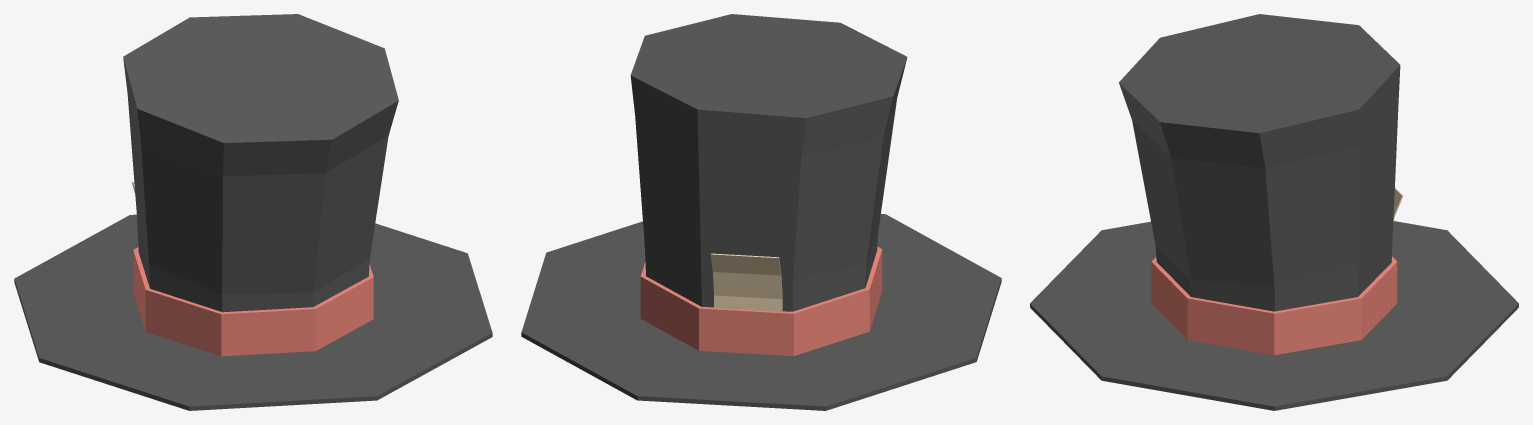
The model's file is tophat.glb.
The picture shows the model from 3 angles, left to right: view 1: azimuth 30°, elevation 25°; view 2: azimuth 150°, elevation 25°; view 3: azimuth 270°, elevation 25°; orthographic projection.
Parts seen in each view (by area): view 1: node-0; view 2: node-0; view 3: node-0.
Part boxes in pixels (x1,y1,x2,y2): node-0: [14, 14, 492, 410]; node-0: [521, 14, 1001, 410]; node-0: [1030, 14, 1518, 410].
Size of the model in its own units: 18.6 by 10.2 by 18.6.
